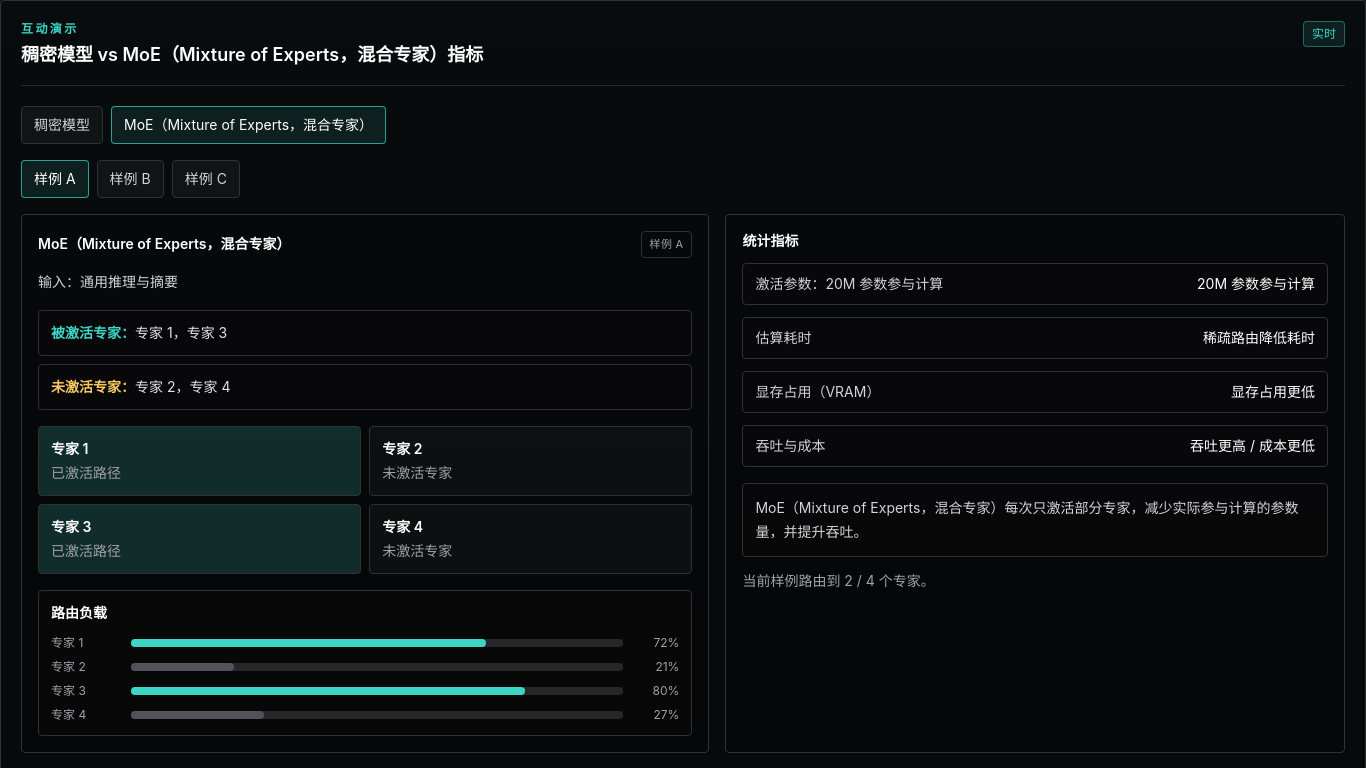
MoeMetricsDemo › shows dense metrics when dense mode is selected
Click the button "稠密模型" at (62,125), box [21,106,103,144]
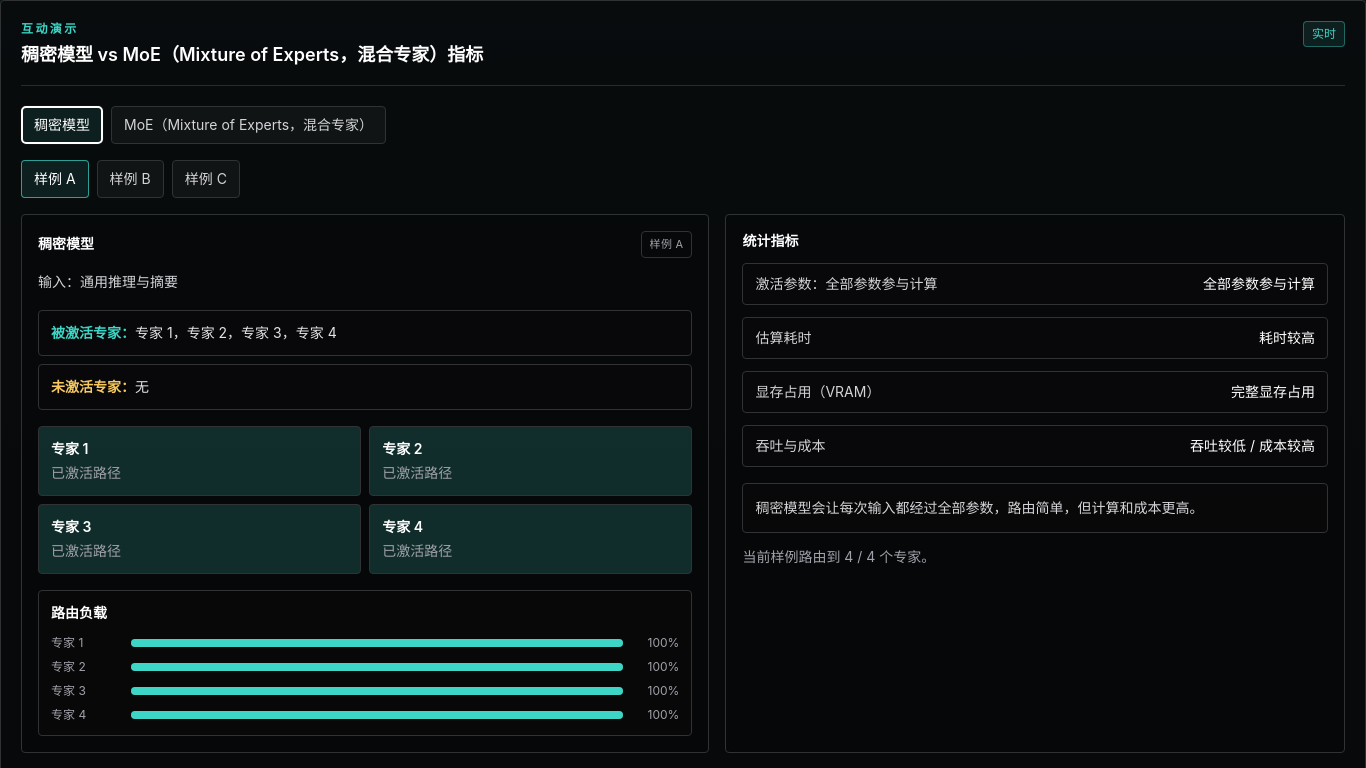
expect the text "估算耗时" is shown: met, box [755,326,811,350]
expect the text "激活参数：全部参数参与计算" is shown: met, box [755,272,937,296]
